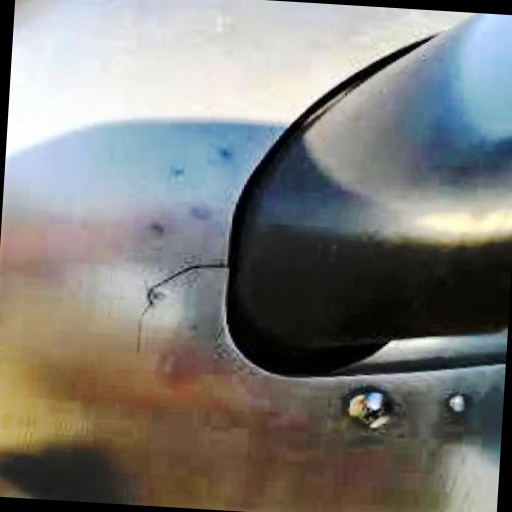crack: (130, 249, 227, 355)
